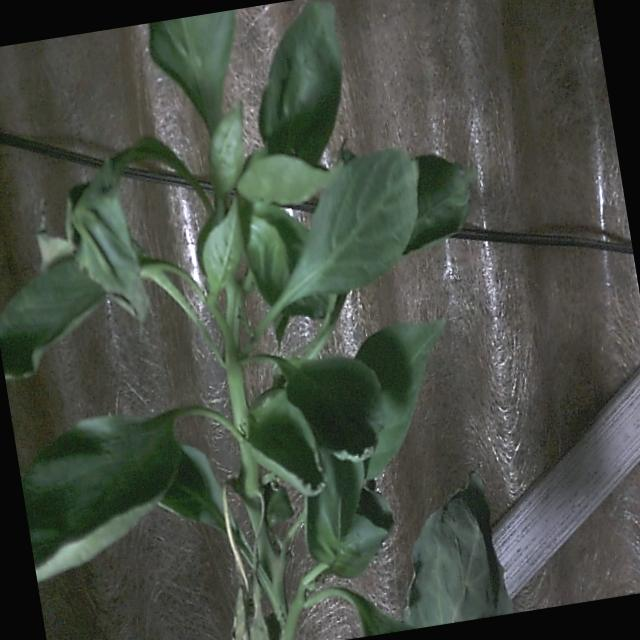Leaf: (21, 411, 181, 581), (277, 149, 417, 305), (405, 475, 512, 627), (356, 321, 443, 479), (259, 3, 341, 164), (0, 258, 103, 379), (149, 10, 234, 134), (405, 155, 475, 252), (236, 153, 337, 205)
